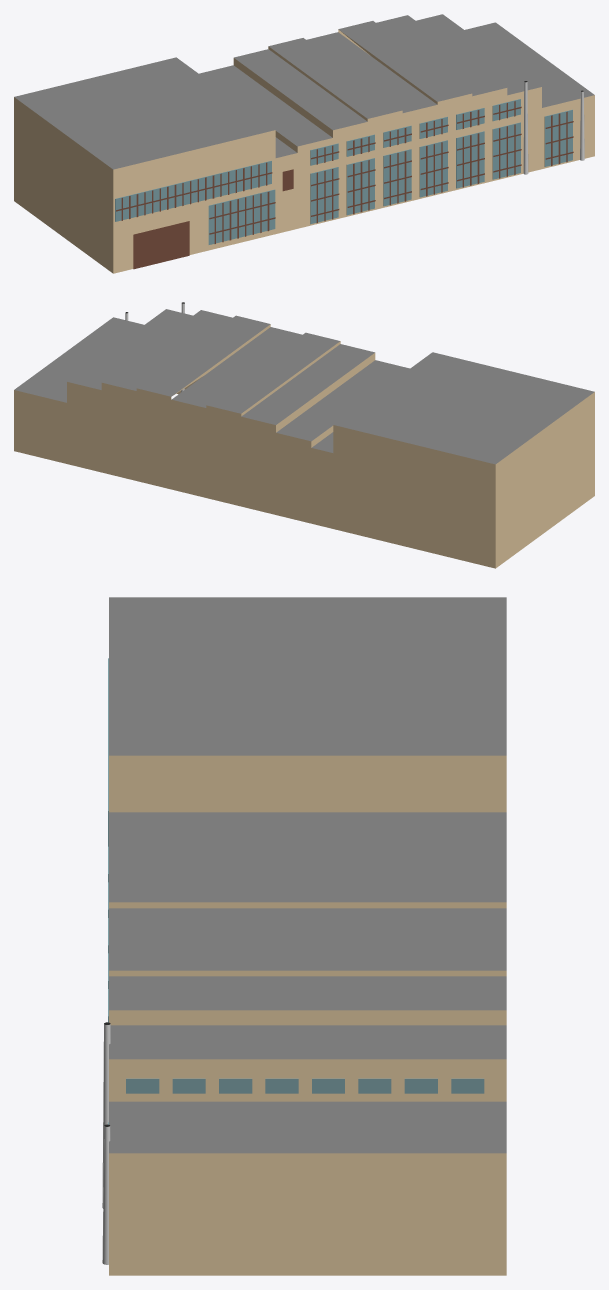
File: Factory (building 1).fbx
3 views of the same model, one above another, from view 1: azimuth 30°, elevation 25°; view 2: azimuth 150°, elevation 25°; view 3: azimuth 270°, elevation 25° (orthographic). The views are drawn at different scales.
Visible parts, largest first — view 1: Factory (building 1); view 2: Factory (building 1); view 3: Factory (building 1).
Boxes of the visible parts, box(x1,y1,x2,y2) form: Factory (building 1): box(14, 14, 594, 273); Factory (building 1): box(14, 302, 594, 568); Factory (building 1): box(102, 597, 506, 1275).
Bounding box in the file's own units: 23007 × 4754 × 8358.
